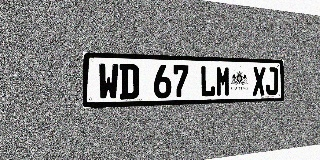6: (154, 64, 171, 99)
7: (172, 65, 189, 98)
D: (120, 64, 139, 99)
J: (266, 67, 278, 95)
L: (200, 66, 215, 97)
M: (216, 66, 230, 97)
W: (98, 63, 119, 100)
X: (253, 67, 265, 96)
